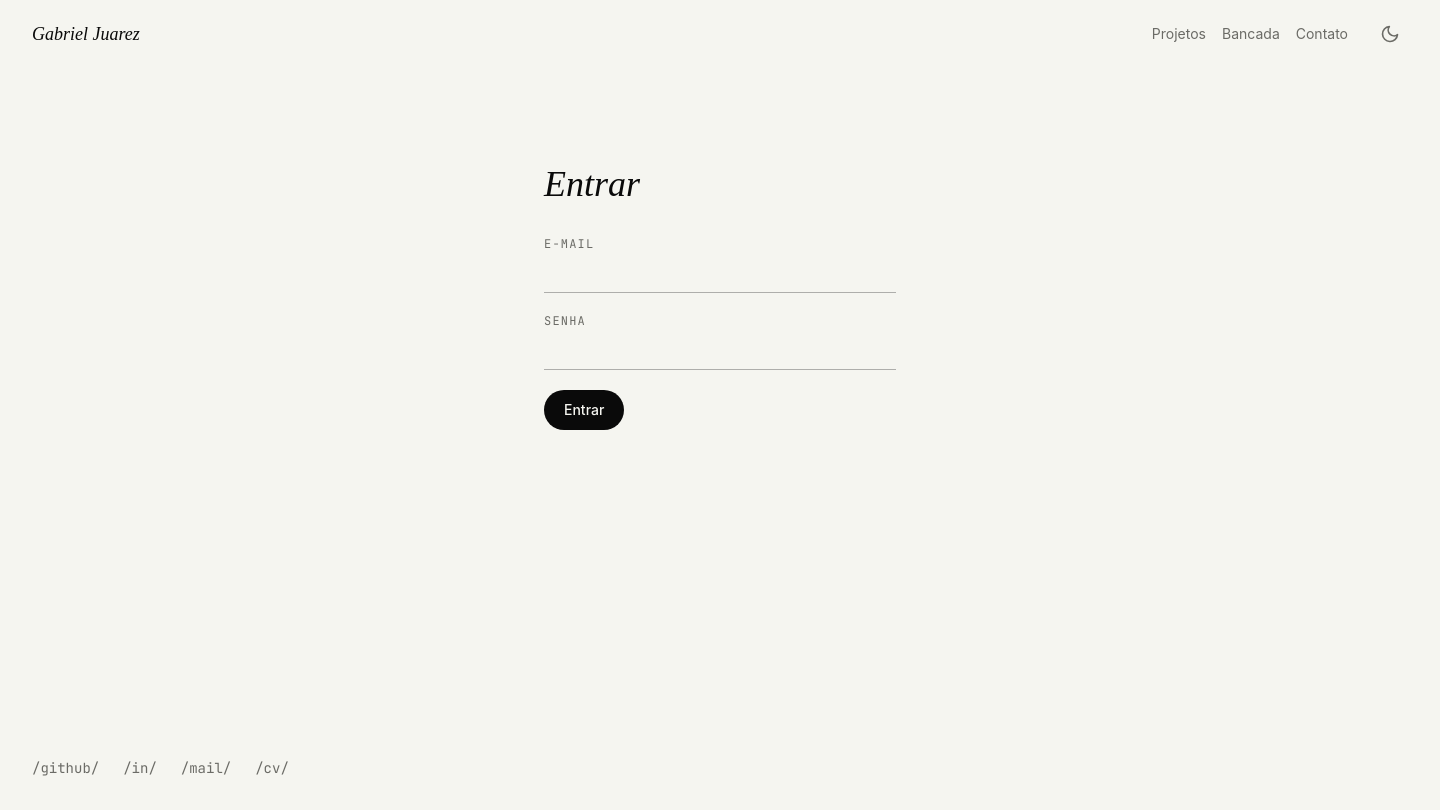
Test: LoginPage › mostra o erro de cada campo ao enviar vazio
This screenshot has width=1440, height=810.
Click the button "Entrar". click: x=584, y=410
box: [544,390,624,430]
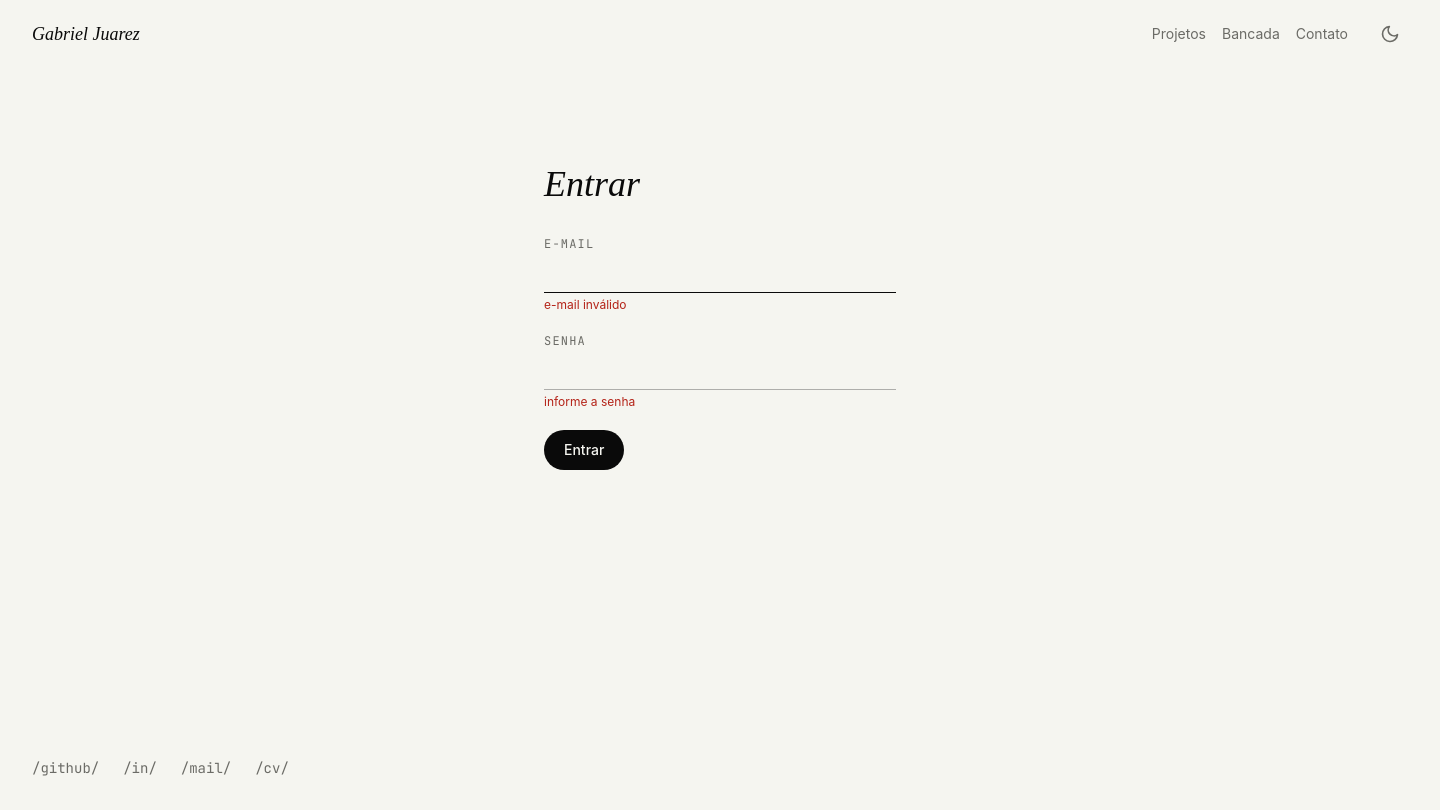
Expected: the text "e-mail inválido" is shown, [544,297,627,312]
